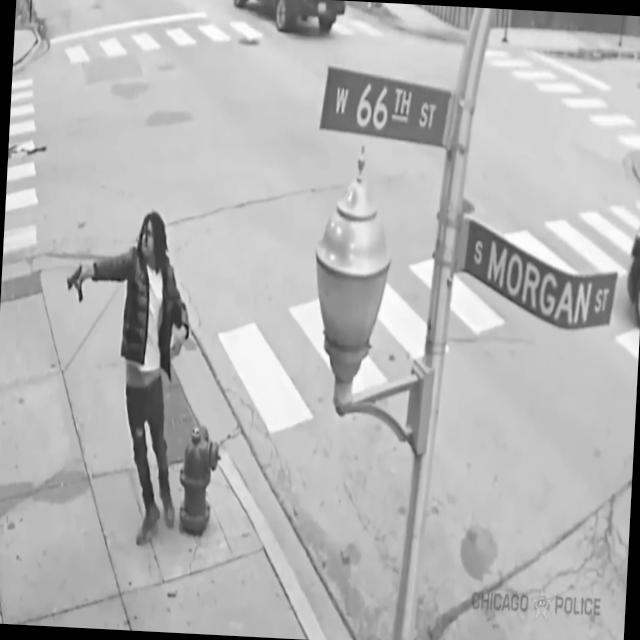gun: (64, 260, 87, 305)
person with a gun: (52, 207, 196, 548)
